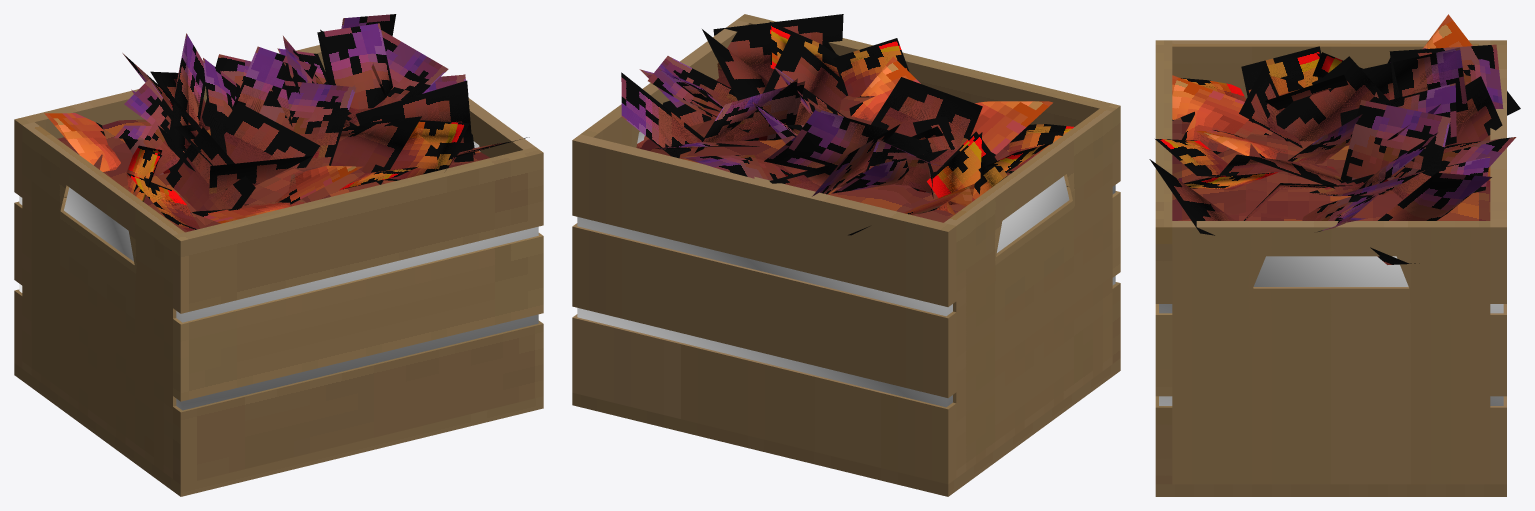
The model's file is objects_un_plan_seaweedbox02.gltf.
The picture shows the model from 3 angles, left to right: view 1: azimuth 30°, elevation 25°; view 2: azimuth 150°, elevation 25°; view 3: azimuth 270°, elevation 25°; orthographic projection. The views are drawn at different scales.
Visible parts, largest first — view 1: um_objects_un_plan_seaweedbox02_model_lod0Shape:objects_un_p (×2), um_objects_un_plan_seaweedbox02_model_lod1Shape:objects_un_p (×2), um_objects_un_plan_seaweedbox02_model_lod0Shape:shadow_mat; view 2: um_objects_un_plan_seaweedbox02_model_lod0Shape:objects_un_p (×2), um_objects_un_plan_seaweedbox02_model_lod1Shape:objects_un_p (×2), um_objects_un_plan_seaweedbox02_model_lod0Shape:shadow_mat, um_objects_un_plan_seaweedbox02_model_lod2Shape:objects_un_p; view 3: um_objects_un_plan_seaweedbox02_model_lod0Shape:objects_un_p (×2), um_objects_un_plan_seaweedbox02_model_lod1Shape:objects_un_p (×2), um_objects_un_plan_seaweedbox02_model_lod0Shape:shadow_mat.
Part boxes in pixels (x1,y1,x2,y2): um_objects_un_plan_seaweedbox02_model_lod0Shape:objects_un_p (×2): [14, 23, 543, 496]; um_objects_un_plan_seaweedbox02_model_lod1Shape:objects_un_p (×2): [14, 14, 527, 477]; um_objects_un_plan_seaweedbox02_model_lod0Shape:shadow_mat: [19, 141, 538, 410]; um_objects_un_plan_seaweedbox02_model_lod0Shape:objects_un_p (×2): [572, 14, 1120, 496]; um_objects_un_plan_seaweedbox02_model_lod1Shape:objects_un_p (×2): [588, 22, 1120, 477]; um_objects_un_plan_seaweedbox02_model_lod0Shape:shadow_mat: [577, 131, 1115, 407]; um_objects_un_plan_seaweedbox02_model_lod2Shape:objects_un_p: [642, 71, 1052, 234]; um_objects_un_plan_seaweedbox02_model_lod0Shape:objects_un_p (×2): [1149, 14, 1520, 496]; um_objects_un_plan_seaweedbox02_model_lod1Shape:objects_un_p (×2): [1155, 43, 1506, 484]; um_objects_un_plan_seaweedbox02_model_lod0Shape:shadow_mat: [1159, 256, 1503, 405].
Size of the model in its own units: 0.7897 by 0.6308 by 0.6258.
3 materials, 2 textured.
